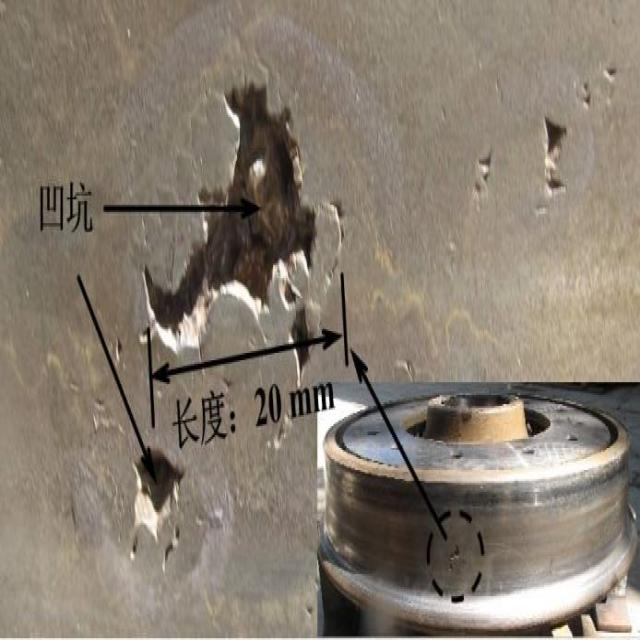Blue hole: (111, 80, 333, 356), (123, 431, 190, 567), (536, 108, 575, 208)
